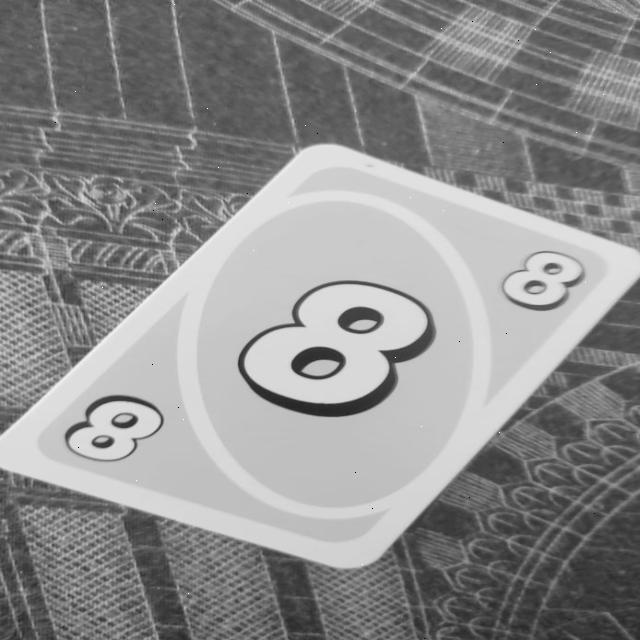card_8: (0, 142, 640, 568)
